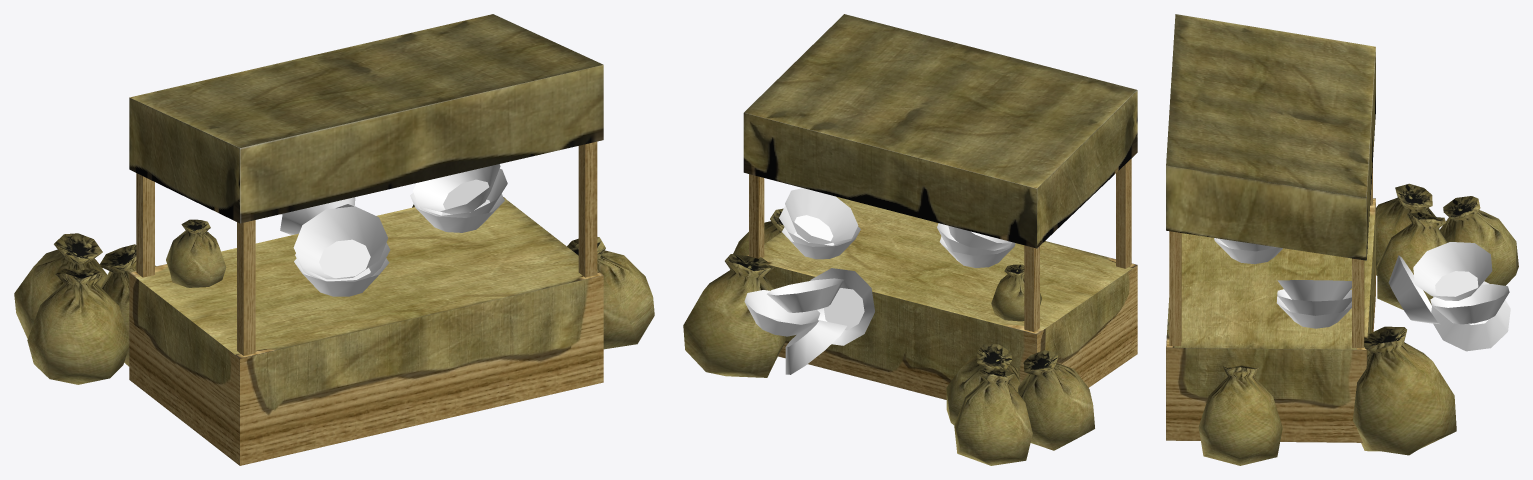
Rendered from store06.fbx.
3 views of the same model, side by side, from view 1: azimuth 30°, elevation 25°; view 2: azimuth 150°, elevation 25°; view 3: azimuth 270°, elevation 25° (orthographic). The views are drawn at different scales.
Visible parts, largest first — view 1: stand_9, bag_95, bowl_88, bag_97, bag_93, bag_98, bowl_87, bag_96, bowl_89, bowl_85, bowl_83, bowl_90; view 2: stand_9, bag_94, bag_93, bag_95, bowl_87, bowl_83, bag_96, bowl_82, bowl_81, bowl_84, bag_98, bowl_88 (+5 smaller); view 3: stand_9, bag_94, bag_97, bowl_81, bag_93, bag_96, bag_95, bowl_84, bowl_82, bowl_83, bowl_87, bowl_90 (+3 smaller).
Part boxes in pixels (<box>): stand_9: <box>129,14,603,465</box>; bag_95: <box>27,268,129,384</box>; bowl_88: <box>293,206,387,279</box>; bag_97: <box>567,237,654,349</box>; bag_93: <box>14,233,107,338</box>; bag_98: <box>166,219,226,287</box>; bowl_87: <box>413,164,500,214</box>; bag_96: <box>99,244,156,366</box>; bowl_89: <box>410,192,504,232</box>; bowl_85: <box>294,258,389,296</box>; bowl_83: <box>280,197,355,234</box>; bowl_90: <box>420,169,507,217</box>; stand_9: <box>743,14,1137,399</box>; bag_94: <box>683,254,786,377</box>; bag_93: <box>954,369,1032,465</box>; bag_95: <box>1018,350,1094,450</box>; bowl_87: <box>785,188,858,244</box>; bowl_83: <box>810,268,874,345</box>; bag_96: <box>946,344,1020,424</box>; bowl_82: <box>744,290,820,336</box>; bowl_81: <box>767,278,844,312</box>; bowl_84: <box>785,320,846,374</box>; bag_98: <box>991,264,1041,321</box>; bowl_88: <box>948,225,1011,250</box>; stand_9: <box>1166,14,1375,442</box>; bag_94: <box>1352,326,1456,455</box>; bag_97: <box>1198,365,1282,465</box>; bowl_81: <box>1413,242,1492,300</box>; bag_93: <box>1440,196,1518,285</box>; bag_96: <box>1376,212,1447,309</box>; bag_95: <box>1376,183,1439,275</box>; bowl_84: <box>1431,281,1510,351</box>; bowl_82: <box>1430,284,1509,324</box>; bowl_83: <box>1388,255,1439,323</box>; bowl_87: <box>1277,280,1351,301</box>; bowl_90: <box>1277,289,1351,315</box>.
Bounding box in the file's own units: 95.5 × 58.25 × 64.95.
